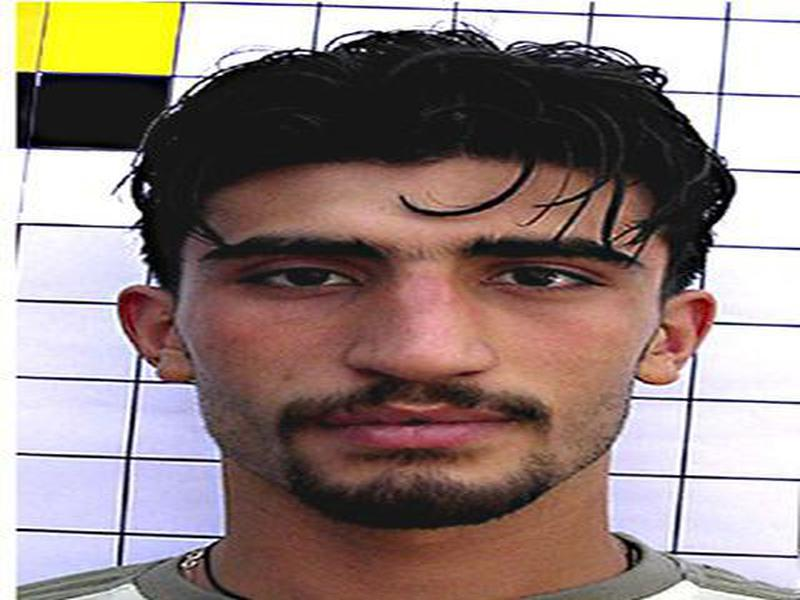without_mask: (174, 178, 672, 527)
